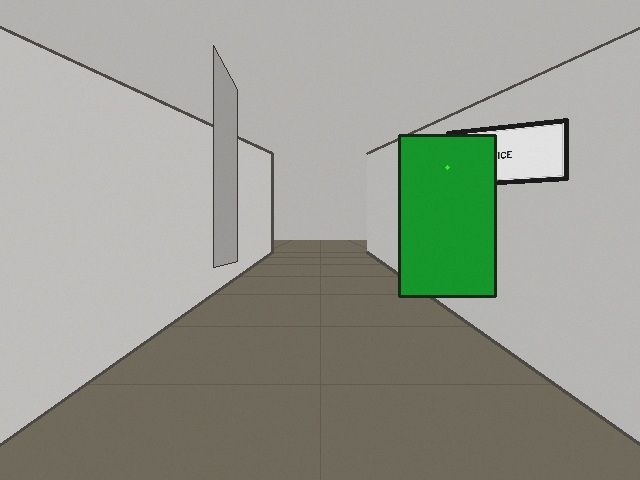charging_station: (399, 135, 495, 296)
directional_sign: (447, 119, 567, 186)
